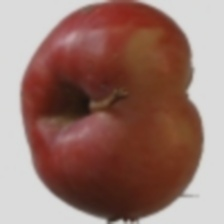apple: (53, 30, 206, 205)
